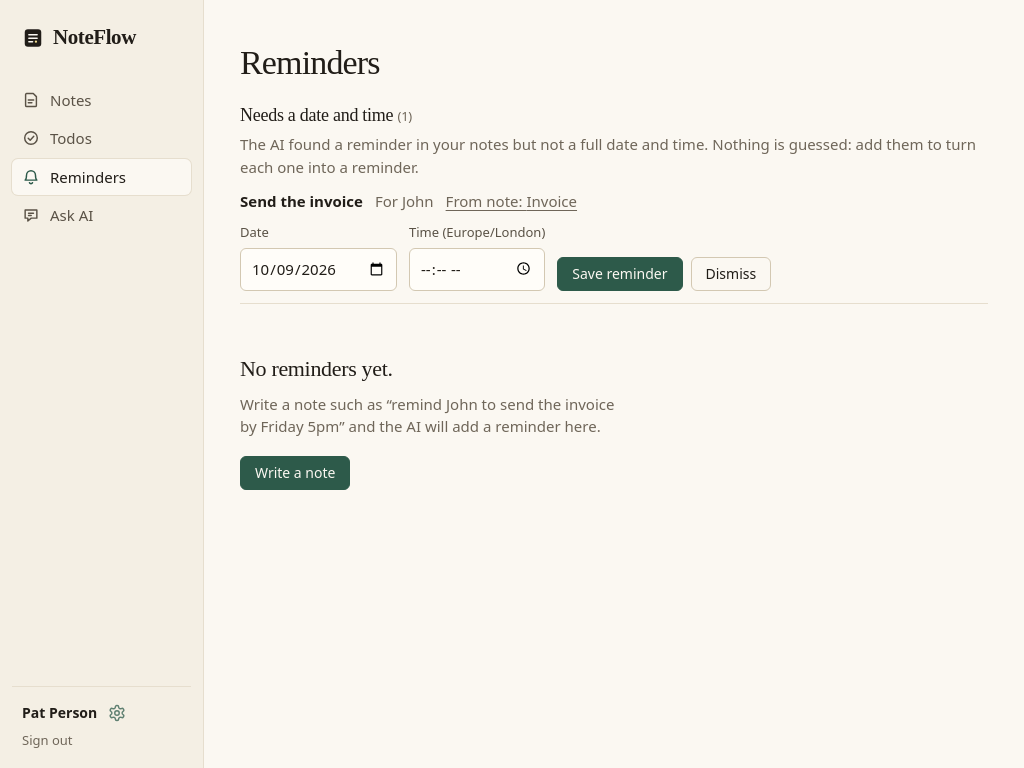
it: reminders that still need a date and time › shows the server's reason when it refuses (for example a time in the past)
Type "08:00" into the time field labelled "Time (Europe/London)" at (477, 269), box [409,248,545,291]
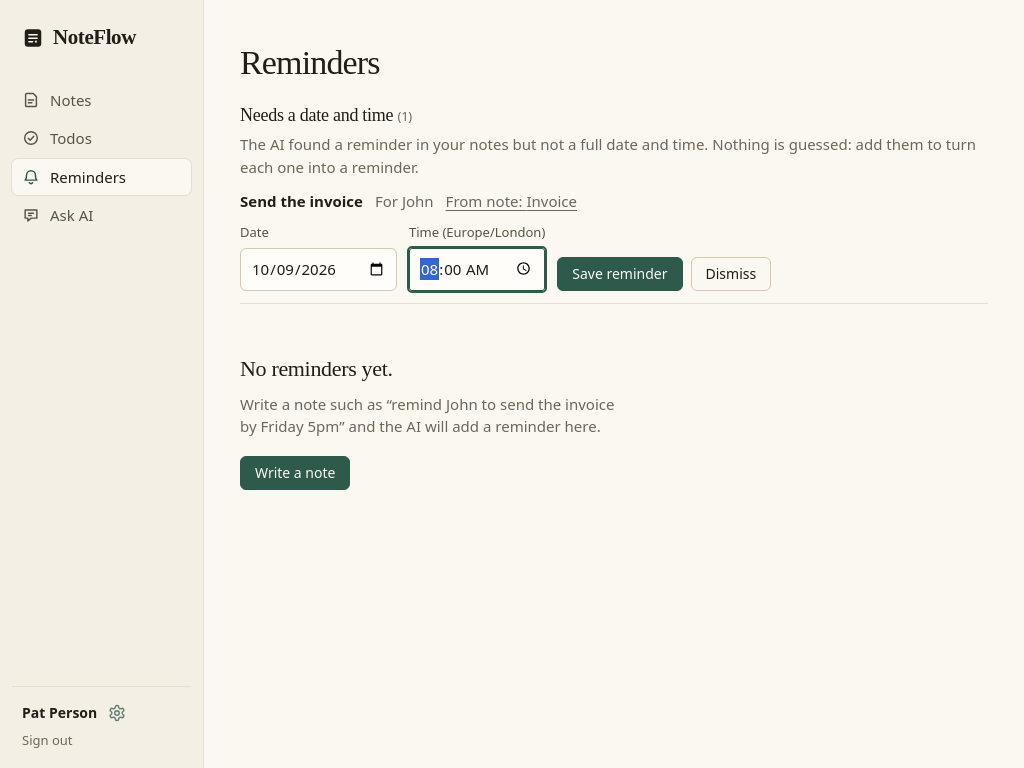
Click the button "Save reminder" at (620, 274), box [557,257,682,291]
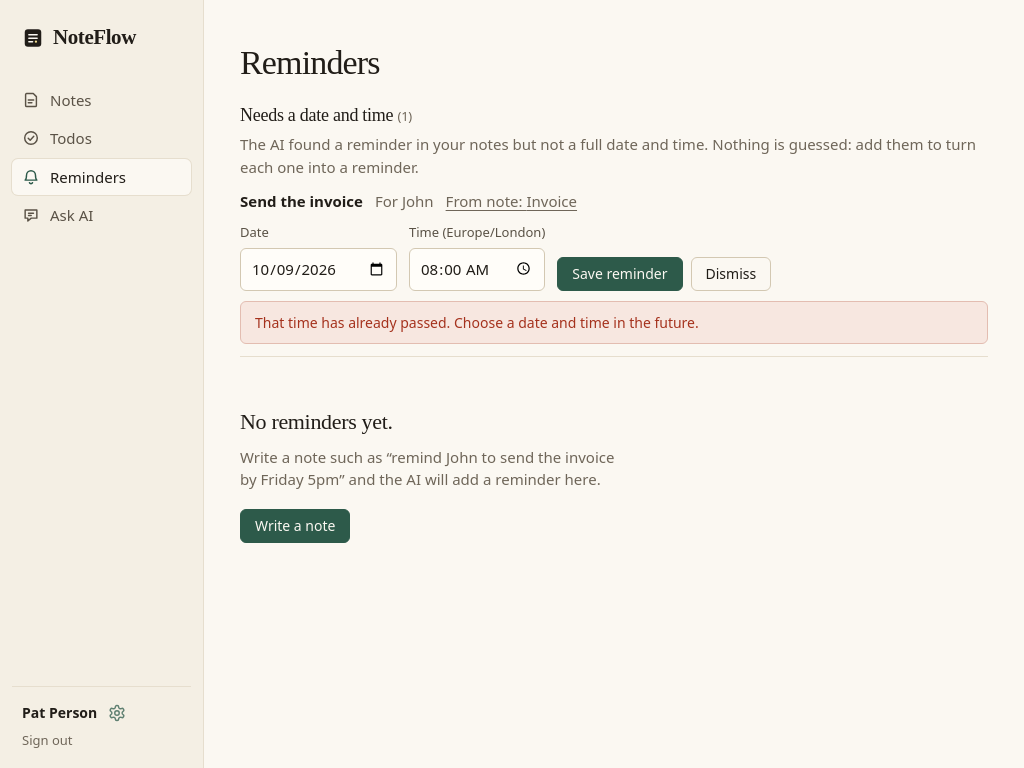
Expected: the text "Send the invoice" is shown, [240,190,363,213]
Now the message shows "already passed", box [255,313,699,332]
